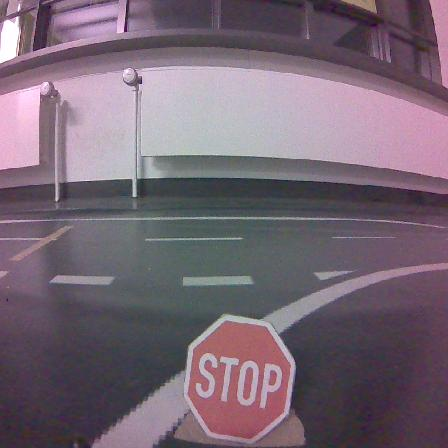STOP: (184, 315, 295, 442)
